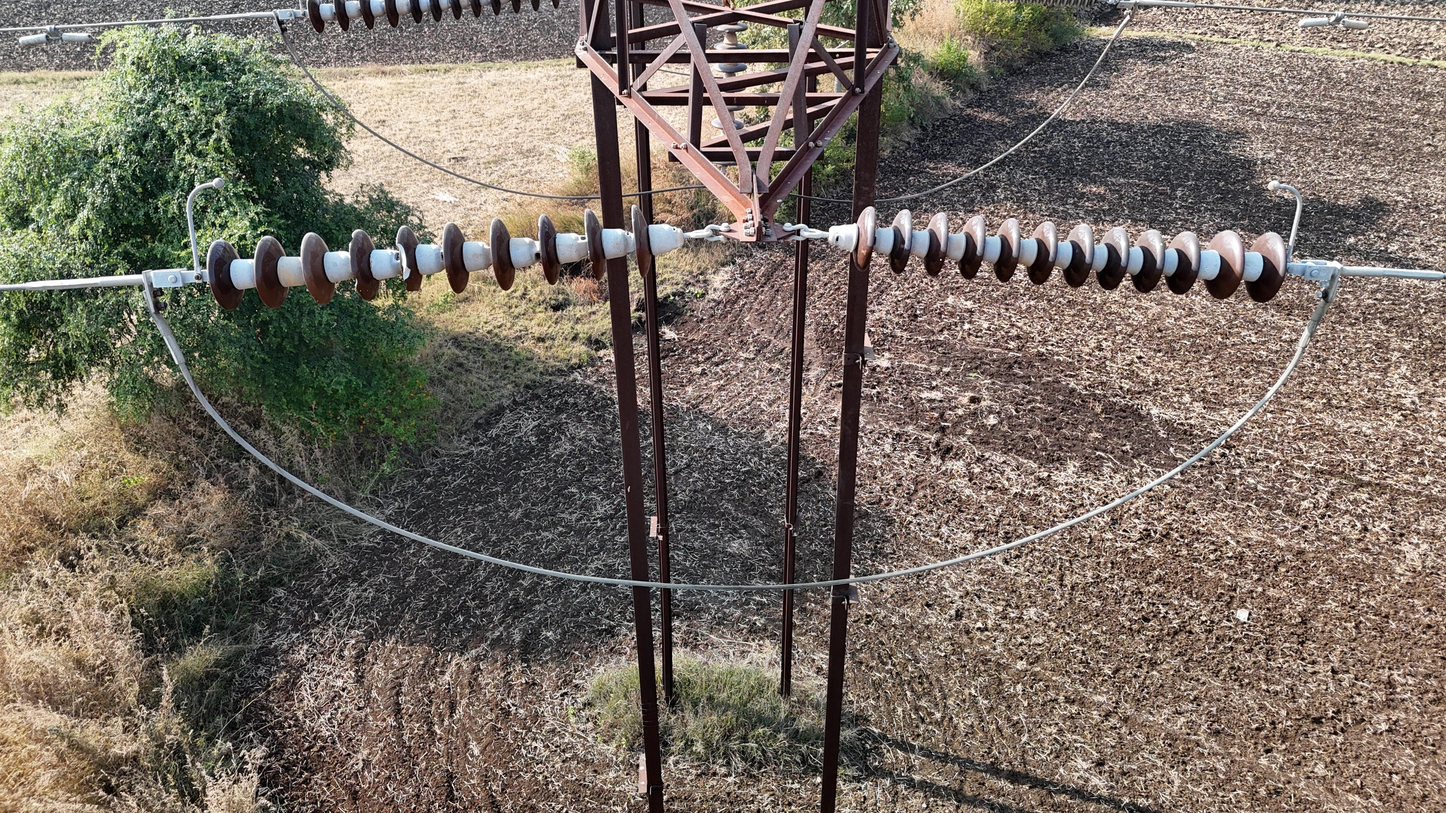broken_insulator: (382, 224, 435, 300), (347, 227, 381, 301), (583, 207, 605, 282)
